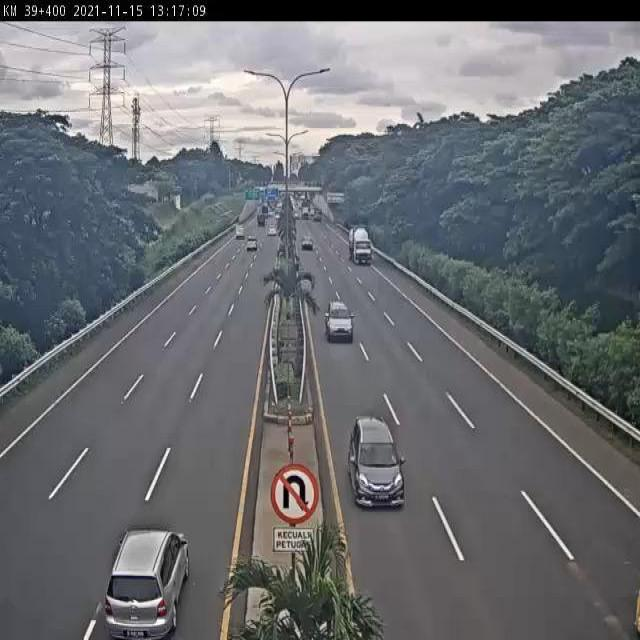car: (104, 524, 192, 640), (349, 412, 407, 511), (325, 298, 356, 346)
truck-xl-: (347, 220, 373, 268)
